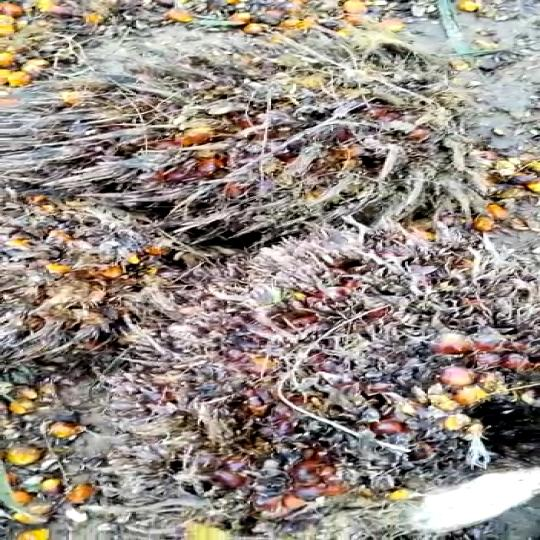terlalu masak: (136, 215, 540, 497), (0, 28, 462, 232)
